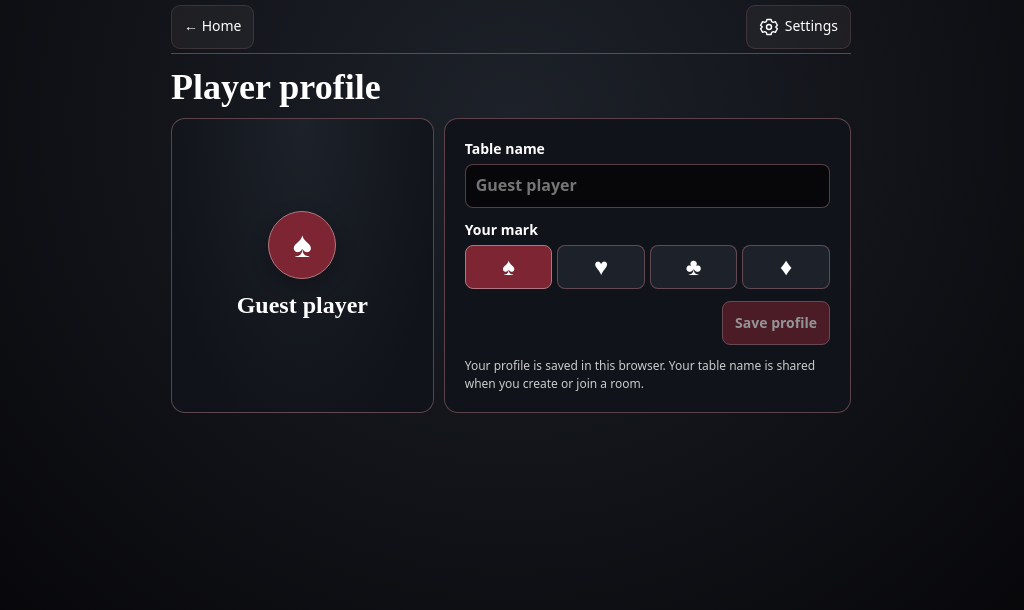
Test case: previews edits, discards them, and saves the chosen identity
The width and height of the screenshot is (1024, 610).
Expected: the button "Save profile" is disabled, [722, 301, 830, 345]
In the field labelled "Table name": (647, 186) [465, 164, 830, 208], type "  Mira  "
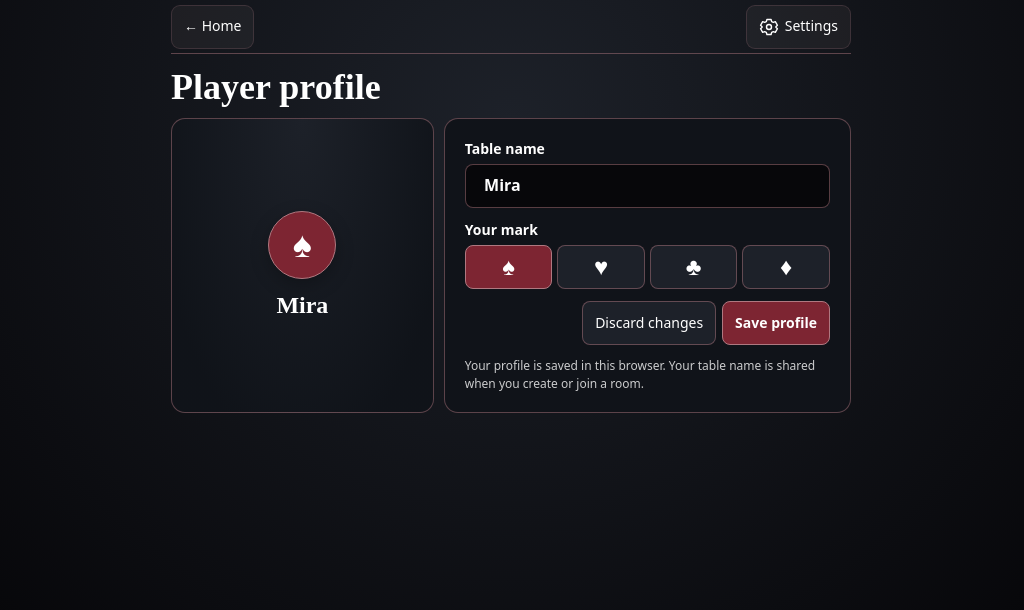
Click the radio button named "hearts": (601, 267) [557, 245, 645, 289]
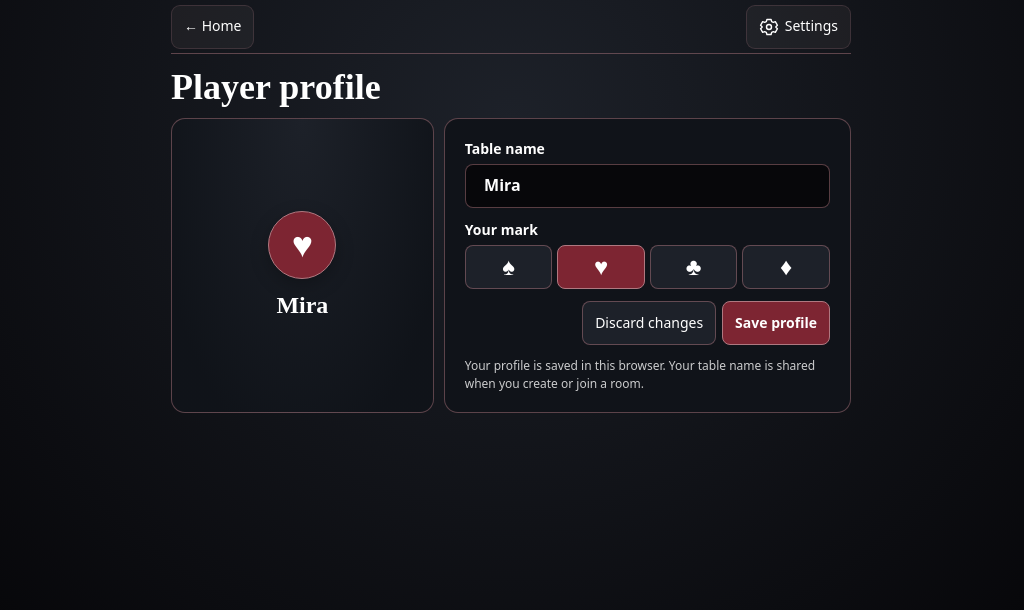
Result: the text "Mira" is shown at [276, 291, 328, 320]
Click the button "Discard changes": (649, 323) [582, 301, 716, 345]
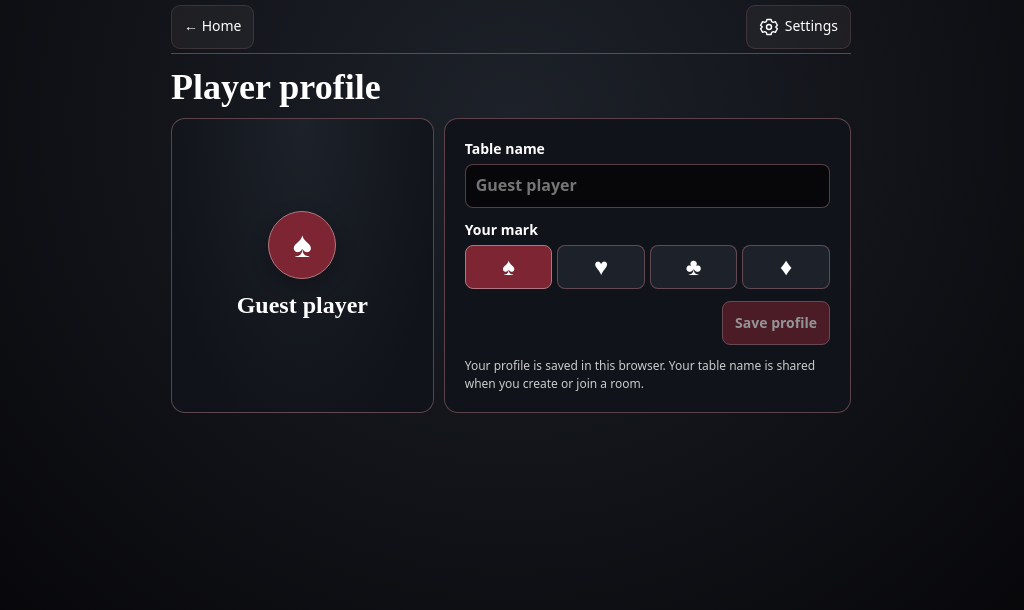
Result: the field labelled "Table name" is empty
Result: the radio button named "spades" is checked at [465, 245, 552, 289]
In the field labelled "Table name": (647, 186) [465, 164, 830, 208], type "  Mira  "
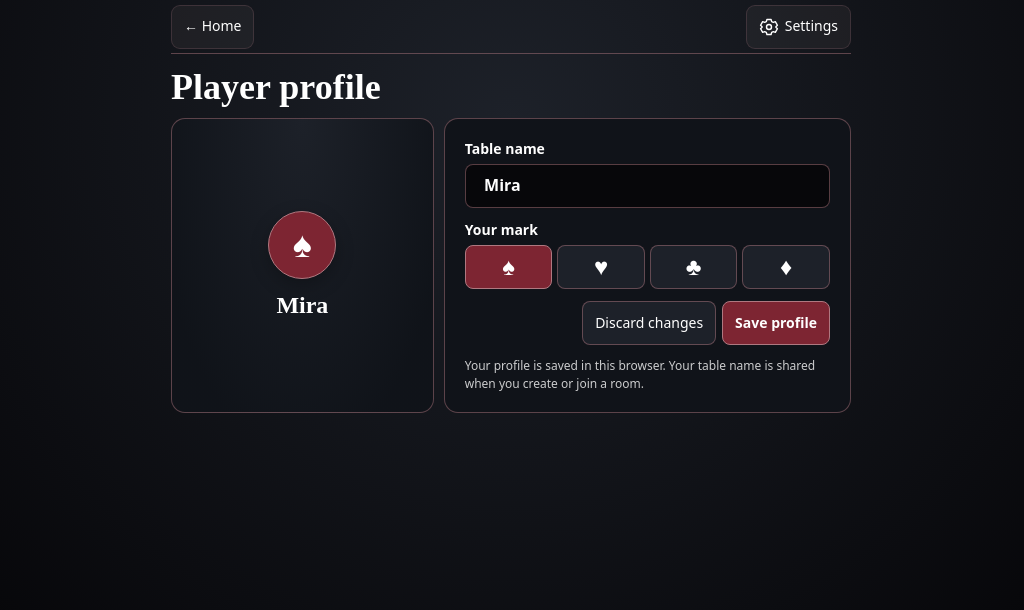
Click the radio button named "hearts": (601, 267) [557, 245, 645, 289]
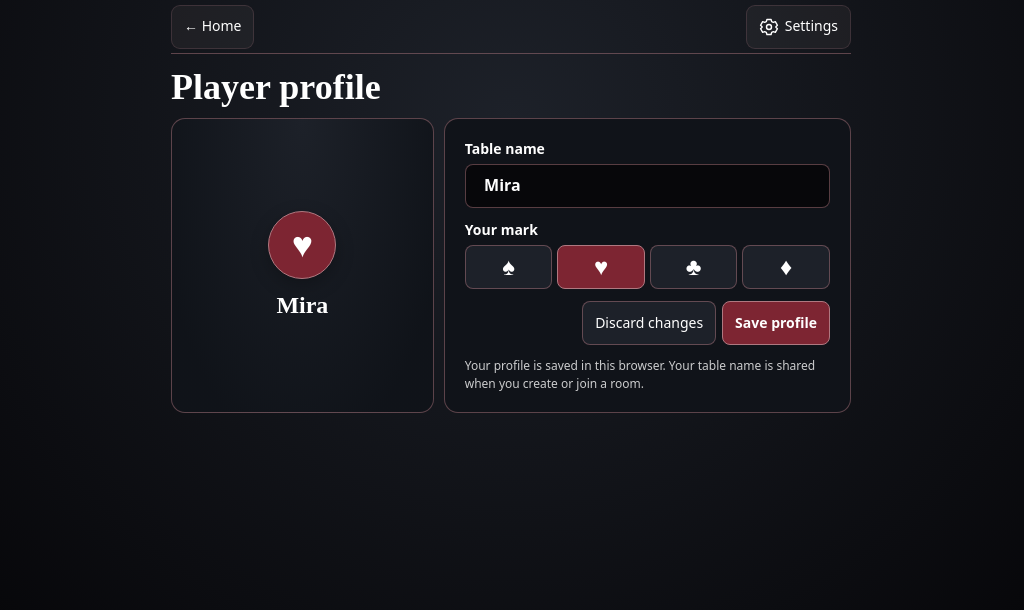
Click the button "Save profile": (776, 323) [722, 301, 830, 345]
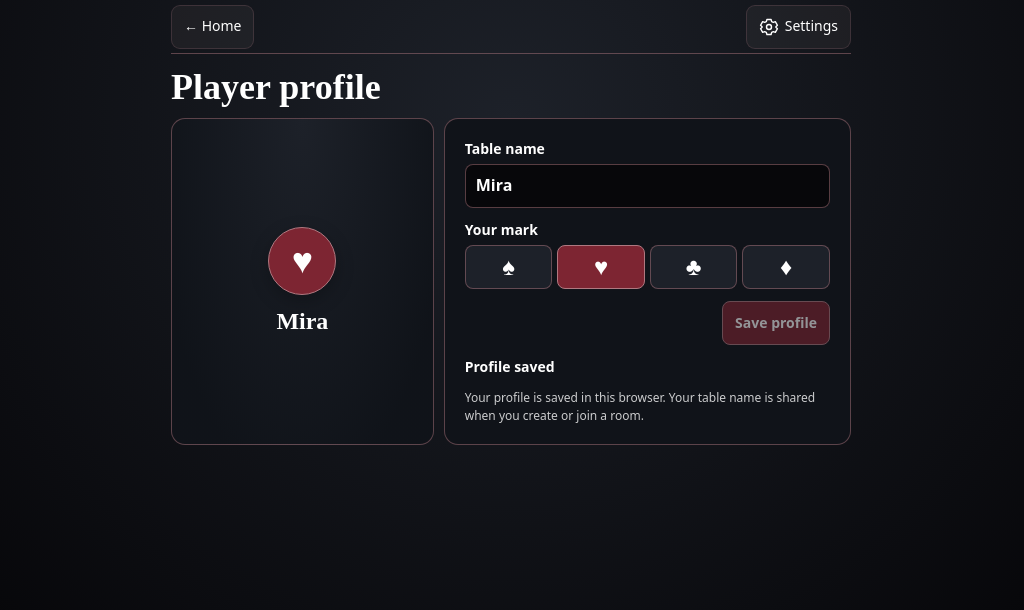
Result: the message reads "Profile saved" at [465, 357, 555, 376]
Result: the button "Save profile" is disabled at [722, 301, 830, 345]
